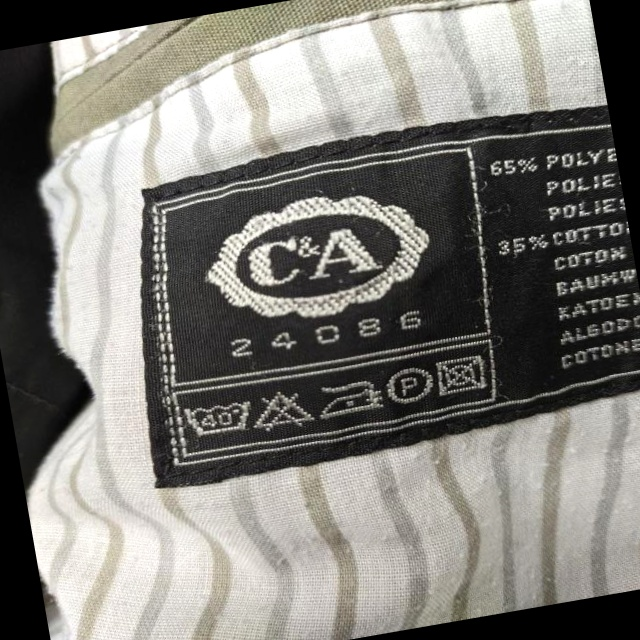40C: (187, 392, 256, 442)
DN_bleach: (252, 388, 317, 435)
DN_tumble_dry: (435, 348, 491, 396)
dry_clean_any_solvent_except_trichloroethylene: (382, 362, 439, 409)
iron_low: (316, 376, 383, 422)
